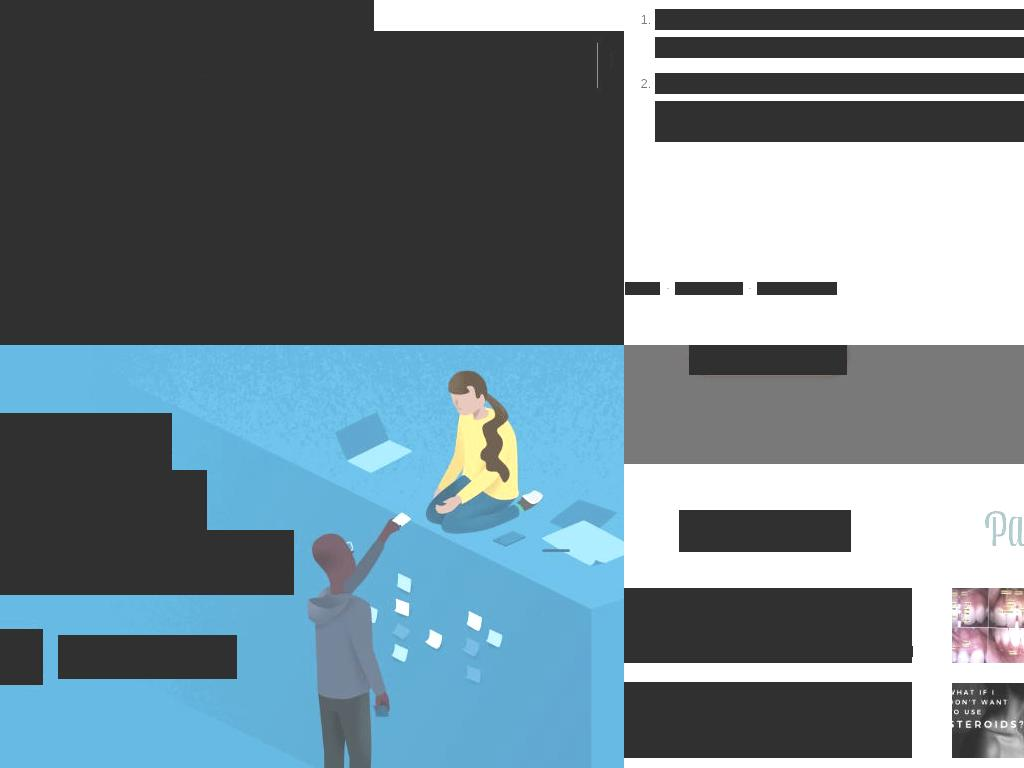button: (0, 102, 624, 345), (58, 635, 237, 679), (689, 345, 847, 375), (74, 50, 172, 75), (171, 50, 254, 75), (253, 50, 334, 75), (0, 50, 75, 75)
heading: (0, 413, 172, 593), (0, 530, 294, 595), (0, 470, 207, 535), (0, 282, 230, 319), (703, 589, 872, 638), (703, 683, 860, 733), (655, 9, 1024, 30), (655, 73, 1024, 94), (0, 0, 182, 22)
image: (624, 682, 912, 758), (624, 588, 912, 663), (0, 0, 374, 56), (679, 510, 851, 552), (952, 682, 1024, 758), (952, 588, 1024, 663), (885, 645, 898, 658), (885, 739, 898, 752)
link: (757, 282, 837, 295), (675, 282, 743, 295), (66, 645, 91, 669), (625, 282, 660, 295)
text: (655, 101, 1024, 142), (655, 37, 1024, 58), (0, 21, 342, 41), (0, 0, 341, 15), (98, 646, 227, 666), (81, 50, 151, 75), (178, 50, 233, 75), (0, 50, 54, 75), (260, 50, 313, 75), (718, 649, 813, 662), (717, 743, 807, 756), (613, 53, 624, 77), (703, 649, 719, 662), (703, 743, 718, 756), (902, 646, 913, 657), (902, 740, 913, 751)
